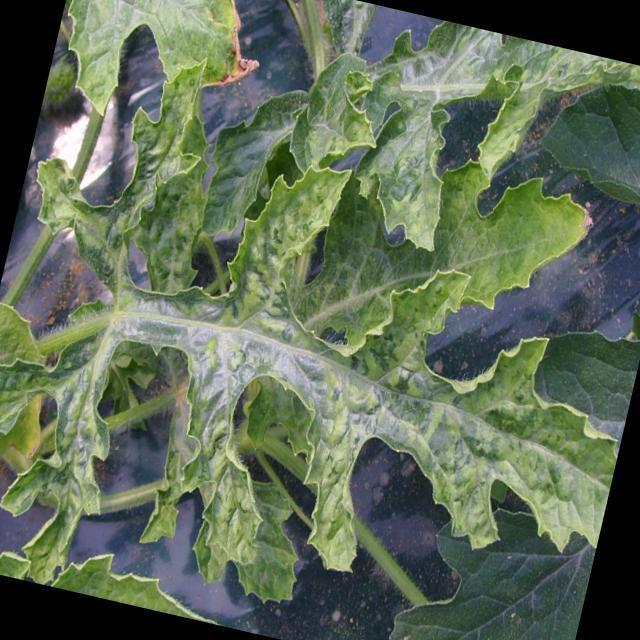Mosaic Virus: (108, 270, 612, 487), (290, 4, 510, 233), (0, 323, 129, 574), (106, 64, 226, 279), (58, 0, 249, 90)
